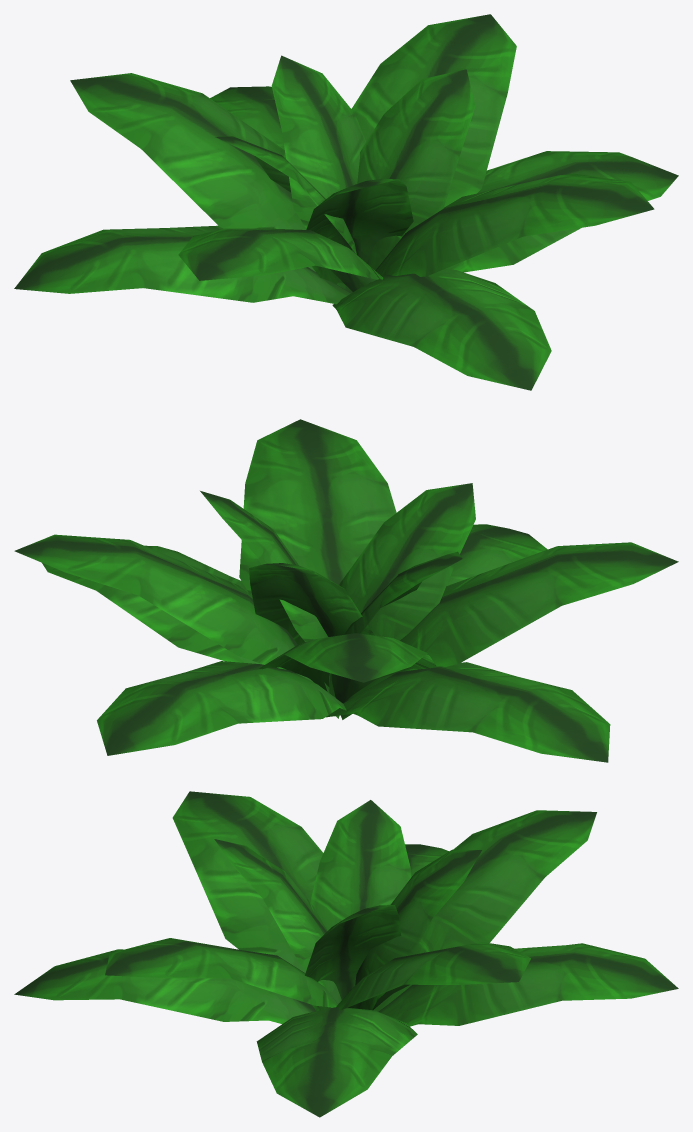
Rendered from bush.FBX.
The picture shows the model from 3 angles, top to bottom: view 1: azimuth 30°, elevation 25°; view 2: azimuth 150°, elevation 25°; view 3: azimuth 270°, elevation 25°; orthographic projection. The views are drawn at different scales.
Parts seen in each view (by area): view 1: bush; view 2: bush; view 3: bush.
Part boxes in pixels (bbox=[...]): bush: bbox=[14, 14, 678, 390]; bush: bbox=[14, 419, 678, 762]; bush: bbox=[14, 791, 678, 1117].
Size of the model in its own units: 59.41 by 18.1 by 59.92.
